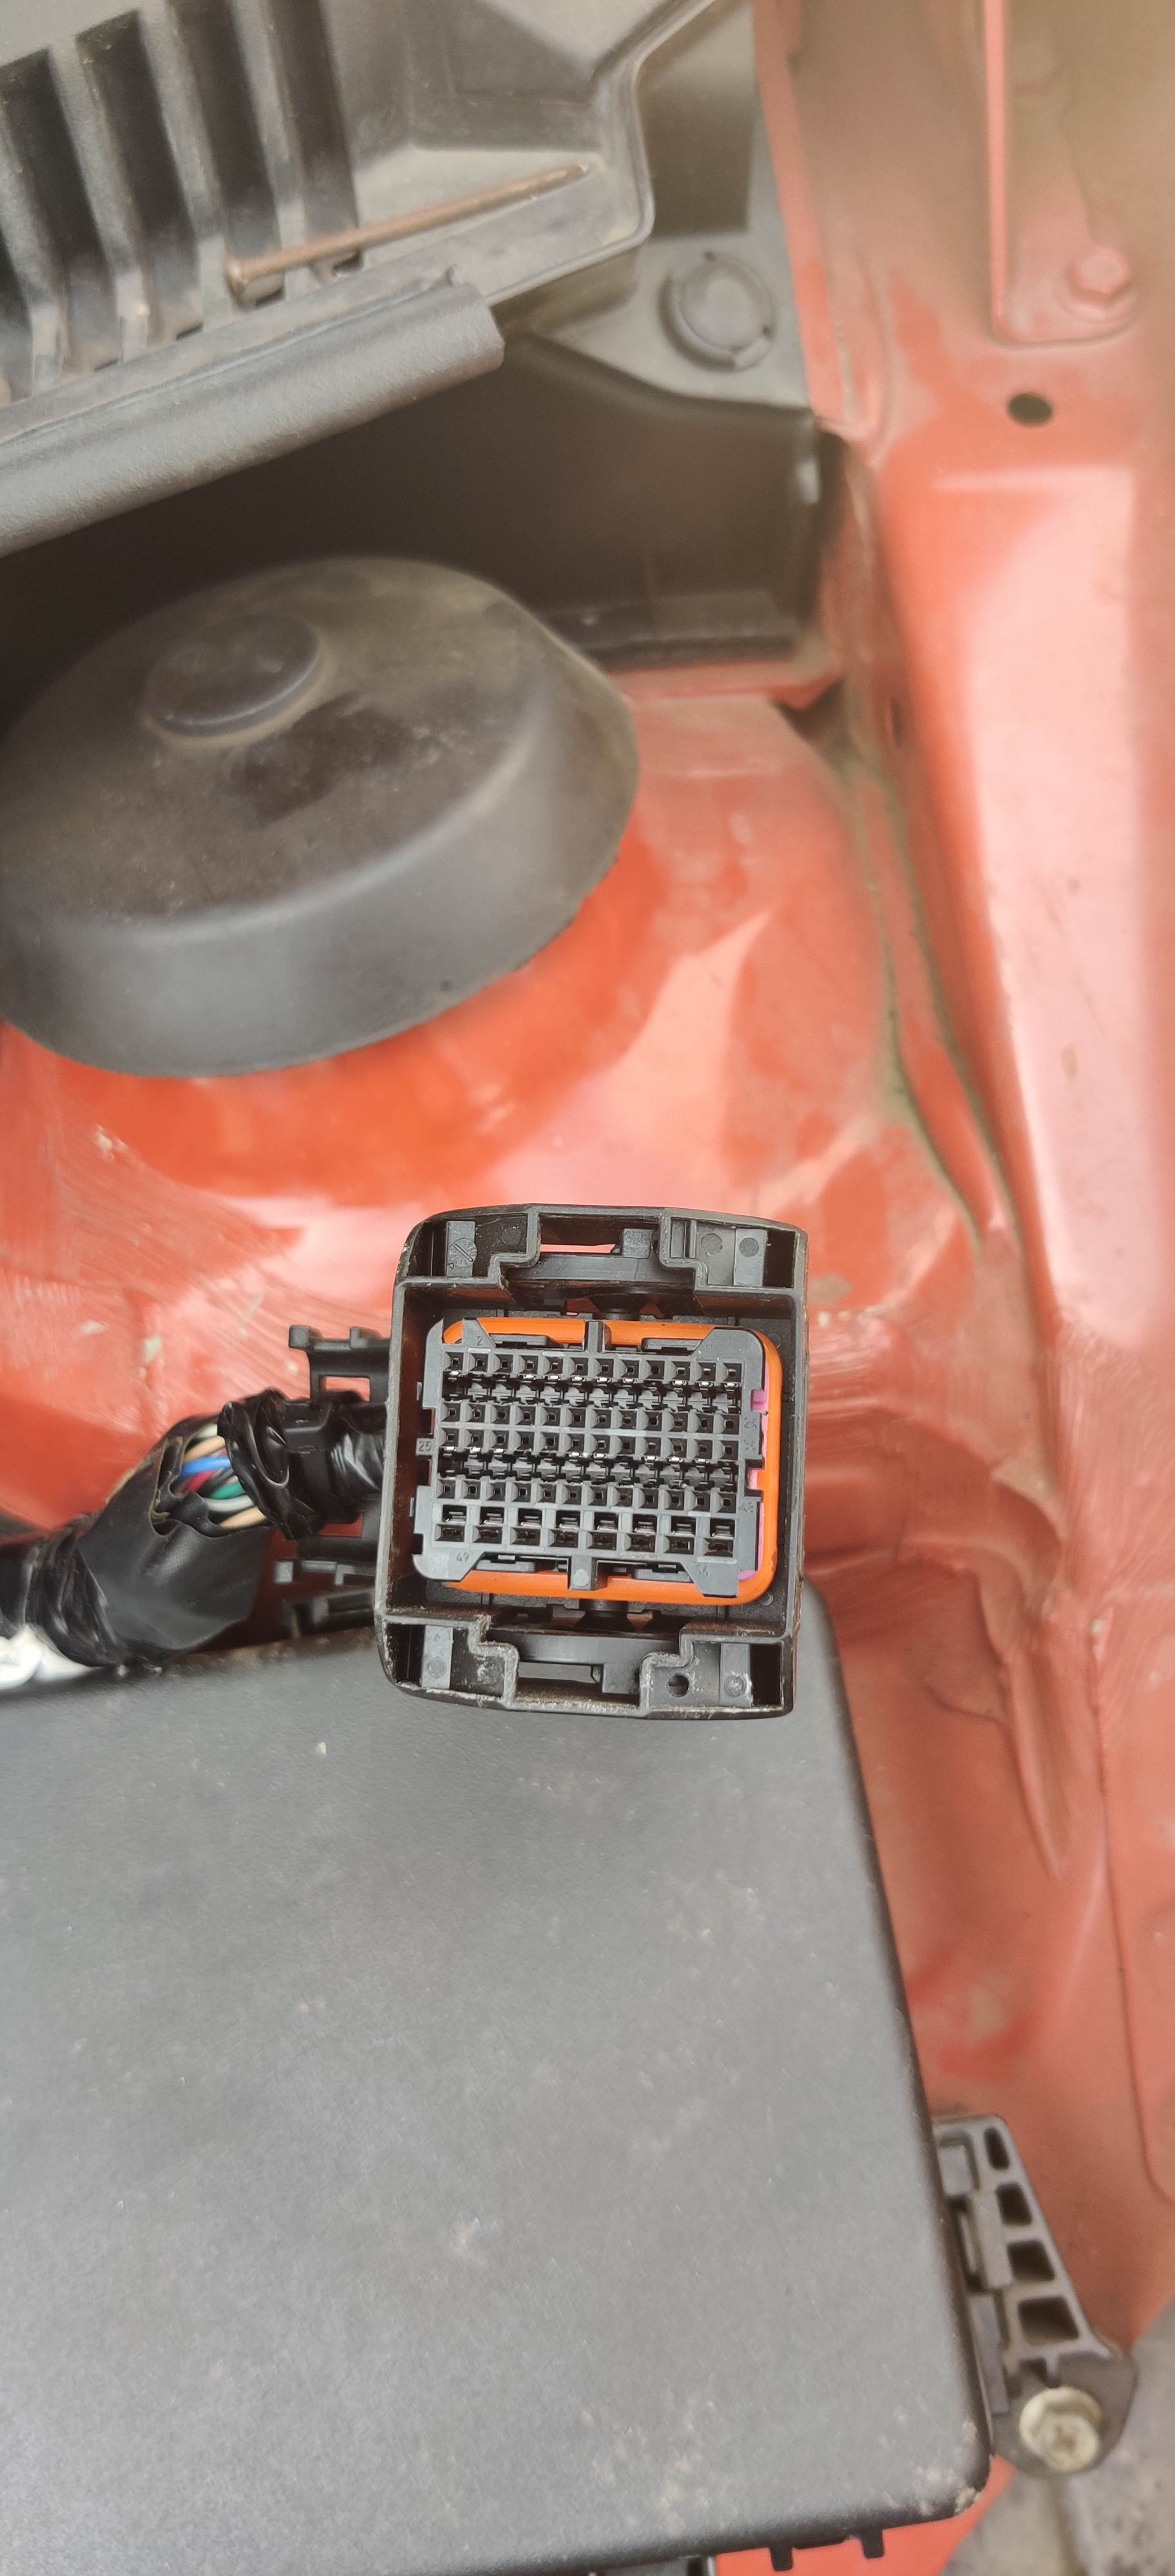connector: (340, 1165, 855, 1773)
